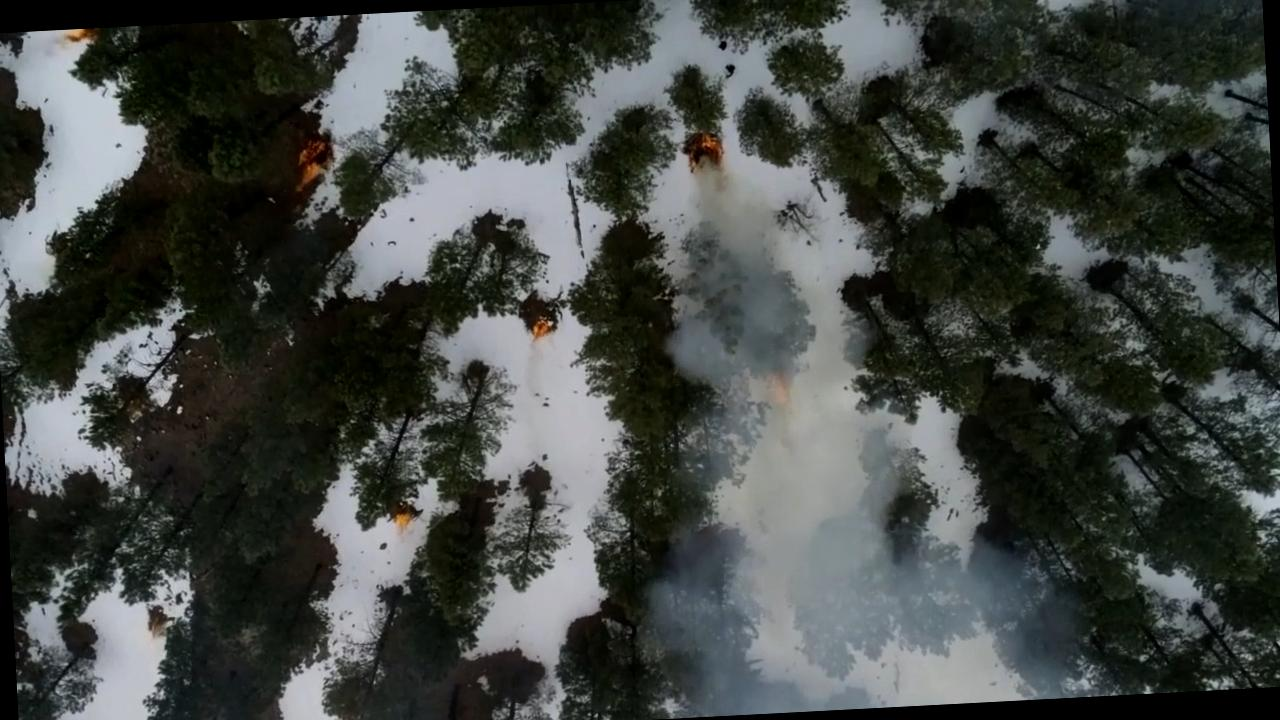fire: (286, 131, 329, 187), (683, 120, 728, 170), (524, 303, 557, 339), (384, 502, 414, 526)
smoke: (640, 452, 1106, 720), (665, 235, 914, 470)
